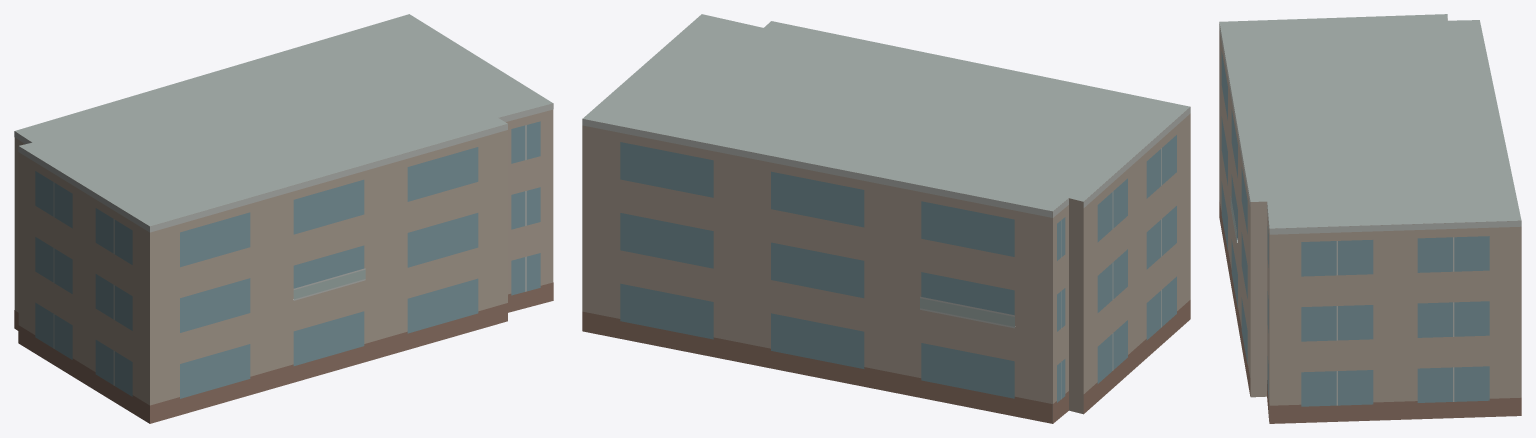
File: survey-upis-32904321.glb
3 views of the same model, side by side, from view 1: azimuth 30°, elevation 25°; view 2: azimuth 150°, elevation 25°; view 3: azimuth 270°, elevation 25° (orthographic). The views are drawn at different scales.
Visible parts, largest first — view 1: survey-upis-32904321.tmp; view 2: survey-upis-32904321.tmp; view 3: survey-upis-32904321.tmp.
Part boxes in pixels (bbox=[...]): survey-upis-32904321.tmp: bbox=[14, 14, 553, 423]; survey-upis-32904321.tmp: bbox=[582, 14, 1190, 423]; survey-upis-32904321.tmp: bbox=[1219, 14, 1521, 423].
Size of the model in its own units: 18.4 by 7.8 by 10.95.
